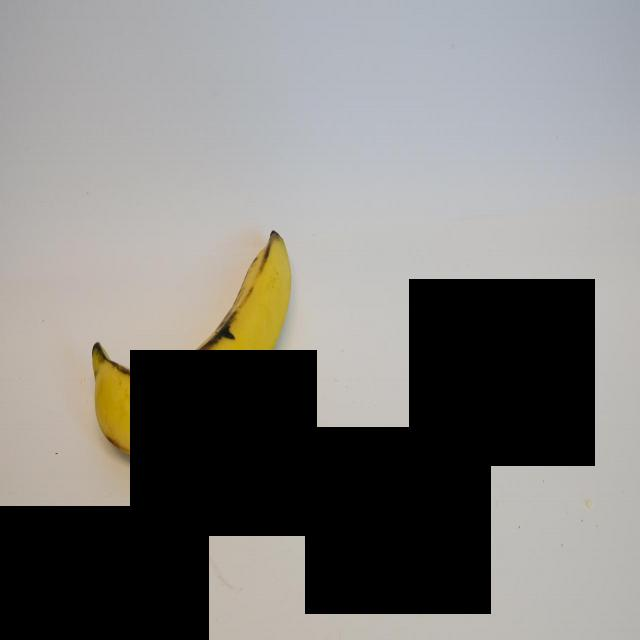banana: (82, 225, 296, 472)
